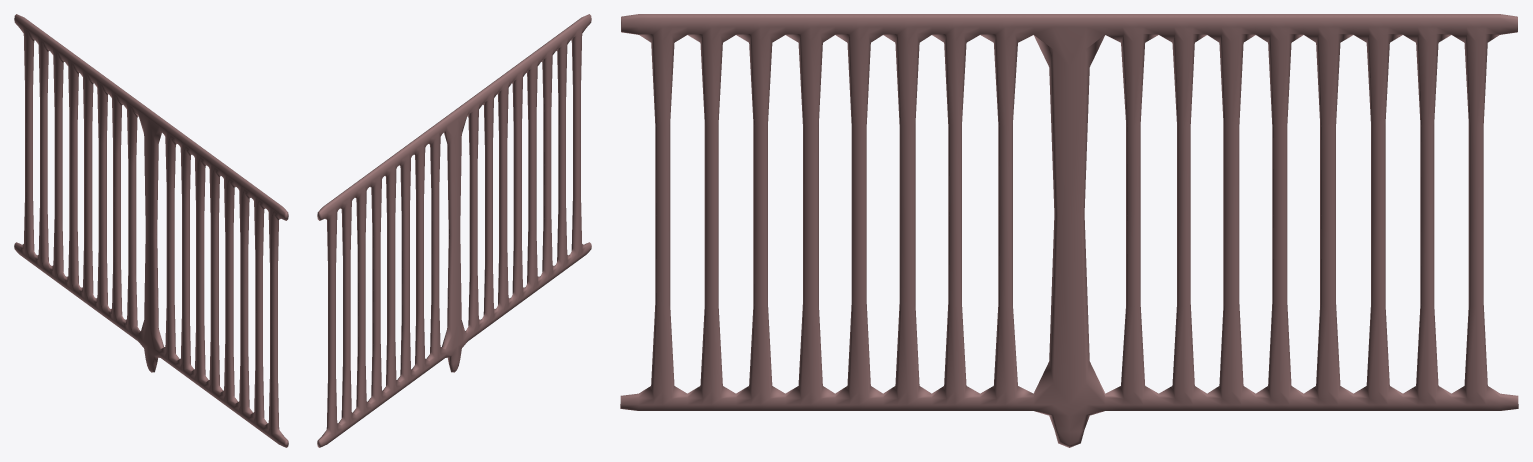
The model's file is HandRailFloor.fbx.
3 renders of one model, left to right at view 1: azimuth 30°, elevation 25°; view 2: azimuth 150°, elevation 25°; view 3: azimuth 270°, elevation 25°, orthographic. The views are drawn at different scales.
Visible parts, largest first — view 1: pCube1; view 2: pCube1; view 3: pCube1.
Boxes of the visible parts, x1,y1,x2,y2 form: pCube1: [14, 14, 288, 447]; pCube1: [317, 14, 591, 447]; pCube1: [620, 14, 1518, 447].
Size of the model in its own units: 0.2464 by 9.83 by 18.44.
